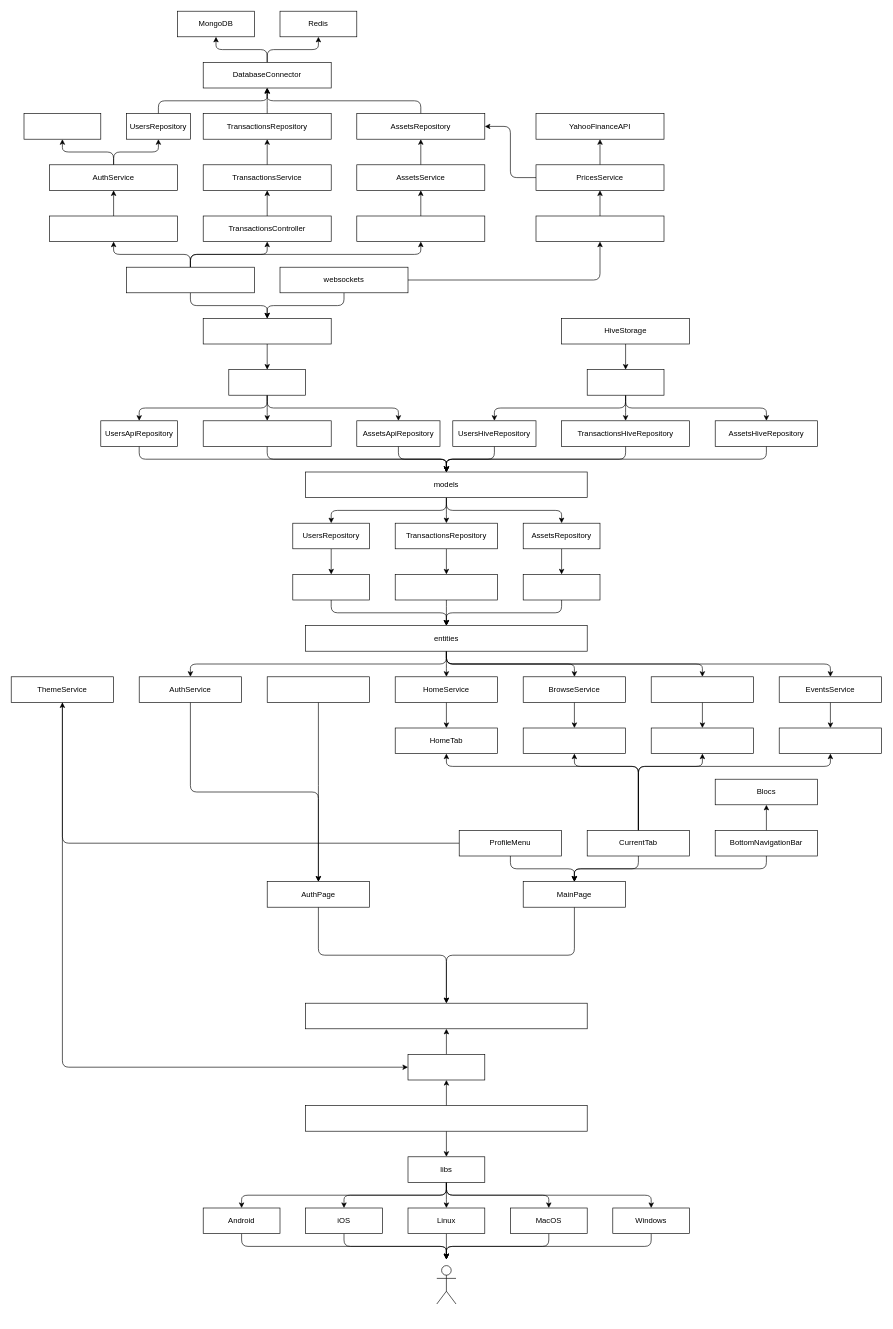
Image size: 893x1329. Some labels were removed from this diagram. The centre of each missing label's shape, as x and y in pixels:
"Actor" belongs at point 446,1284.
"API" belongs at point 267,331.
"ApiConnector" belongs at point 267,382.
"Application" belongs at point 446,1067.
"AssetsController" belongs at point 420,228.
"AssetsInteractor" belongs at point 561,587.
"AuthController" belongs at point 113,228.
"BrowseTab" belongs at point 574,740.
"ChartsService" belongs at point 702,689.
"ChartsTab" belongs at point 702,740.
"controllers" belongs at point 190,280.
"EventsTab" belongs at point 830,740.
"HiveConnector" belongs at point 625,382.
"JwtService" belongs at point 62,126.
"NavigationService" belongs at point 318,689.
"presentation" belongs at point 446,1118.
"PricesWebsocketsHandler" belongs at point 599,228.
"Router" belongs at point 446,1016.
"TransactionsApiRepository" belongs at point 267,433.
"TransactionsInteractor" belongs at point 446,587.
"UsersInteractor" belongs at point 331,587.
